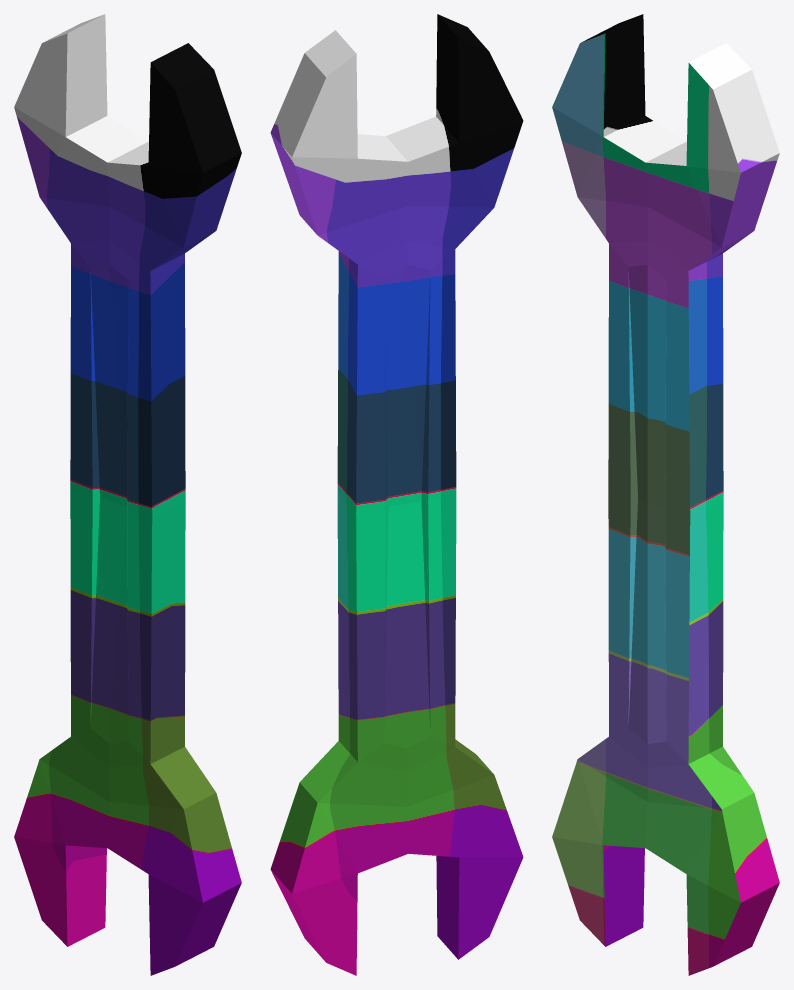
File: 041_Wrench.fbx
3 renders of one model, left to right at view 1: azimuth 90°, elevation 25°; view 2: azimuth 150°, elevation 25°; view 3: azimuth 270°, elevation 25°, orthographic.
Parts seen in each view (by area): view 1: WRENCH; view 2: WRENCH; view 3: WRENCH.
Part boxes in pixels (x1,y1,x2,y2): WRENCH: [14, 14, 241, 975]; WRENCH: [270, 14, 523, 975]; WRENCH: [552, 14, 779, 975].
Bounding box in the file's own units: 20.98 × 104 × 23.56.
